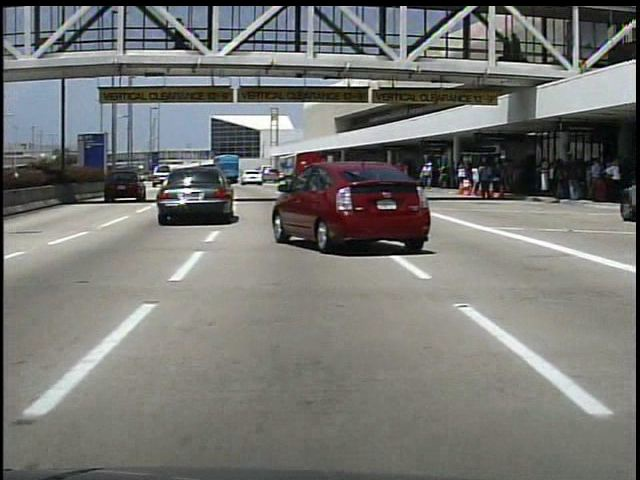person: (477, 160, 494, 206), (173, 22, 189, 54)
